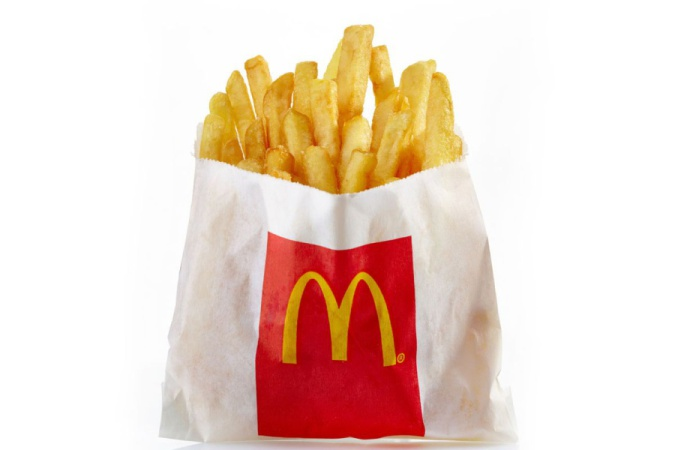mcdonalds: (277, 267, 400, 370)
